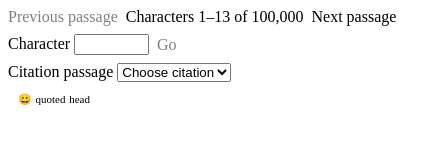
Test: bounded saved evidence passages › preserves explicit current-source recovery while loading the next passage
The width and height of the screenshot is (421, 160).
Click the button "Next passage": (354, 17) x1=312 y1=8 x2=396 y2=26
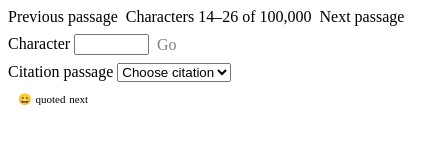
Expected: the element with test id "evidence-text-body" reads "😀 quoted next", x1=18 y1=93 x2=88 y2=105
